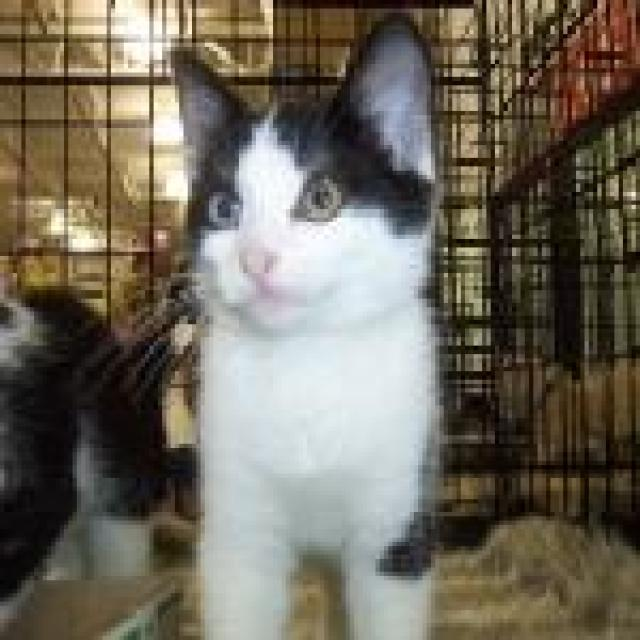dog: (0, 0, 636, 636)
